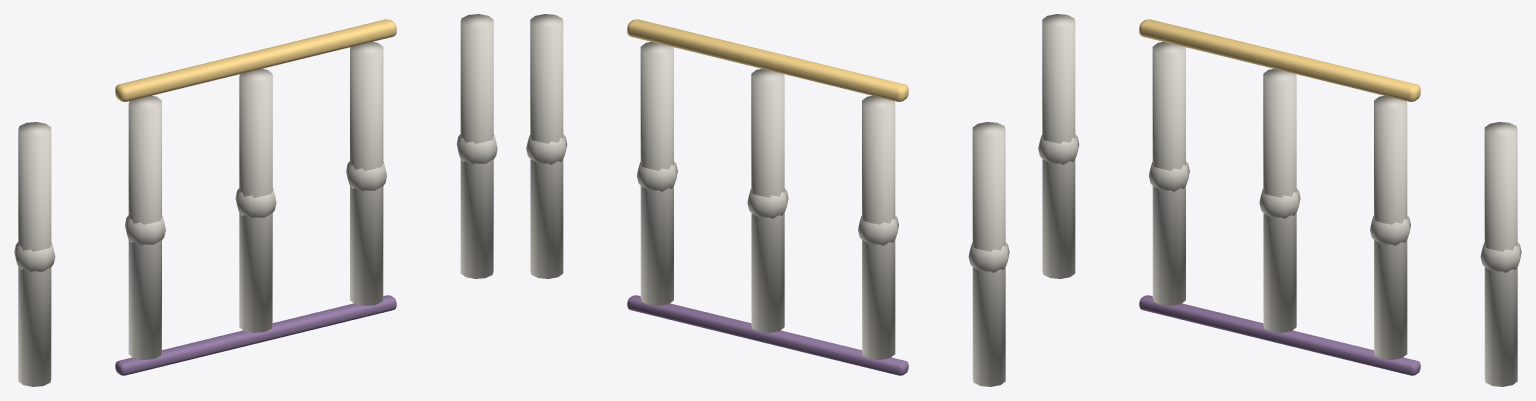
The model's file is opera_railing.glb.
The picture shows the model from 3 angles, left to right: view 1: azimuth 30°, elevation 25°; view 2: azimuth 150°, elevation 25°; view 3: azimuth 330°, elevation 25°; orthographic projection.
Parts seen in each view (by area): view 1: baluster, baluster.004, baluster.001, baluster.002, baluster.003, rail, shoe, belly, belly.002, belly.003, belly.001, belly.004; view 2: baluster, baluster.004, baluster.001, baluster.002, baluster.003, rail, shoe, belly, belly.002, belly.003, belly.001, belly.004; view 3: baluster.004, baluster, baluster.002, baluster.003, baluster.001, rail, shoe, belly.004, belly.001, belly.002, belly.003, belly.
Boxes of the visible parts, x1,y1,x2,y2 form: baluster: (18,122,51,386); baluster.004: (460,14,493,278); baluster.001: (128,95,161,359); baluster.002: (239,69,272,332); baluster.003: (350,42,383,305); rail: (115,19,396,101); shoe: (115,295,396,375); belly: (14,242,55,272); belly.002: (235,188,276,218); belly.003: (346,161,386,191); belly.001: (125,215,165,245); belly.004: (456,134,497,164); baluster: (972,122,1005,386); baluster.004: (530,14,563,278); baluster.001: (862,95,895,359); baluster.002: (751,69,784,332); baluster.003: (640,42,673,305); rail: (627,19,908,101); shoe: (627,295,908,375); belly: (968,242,1009,272); belly.002: (747,188,788,218); belly.003: (637,161,677,191); belly.001: (858,215,898,245); belly.004: (526,134,567,164); baluster.004: (1484,122,1517,386); baluster: (1042,14,1075,278); baluster.002: (1263,69,1296,332); baluster.003: (1374,95,1407,359); baluster.001: (1152,42,1185,305); rail: (1139,19,1420,101); shoe: (1139,295,1420,375); belly.004: (1480,242,1521,272); belly.001: (1149,161,1189,191); belly.002: (1259,188,1300,218); belly.003: (1370,215,1410,245); belly: (1038,134,1079,164).
Bounding box in the file's own units: 5.2 × 2.99 × 0.4.
